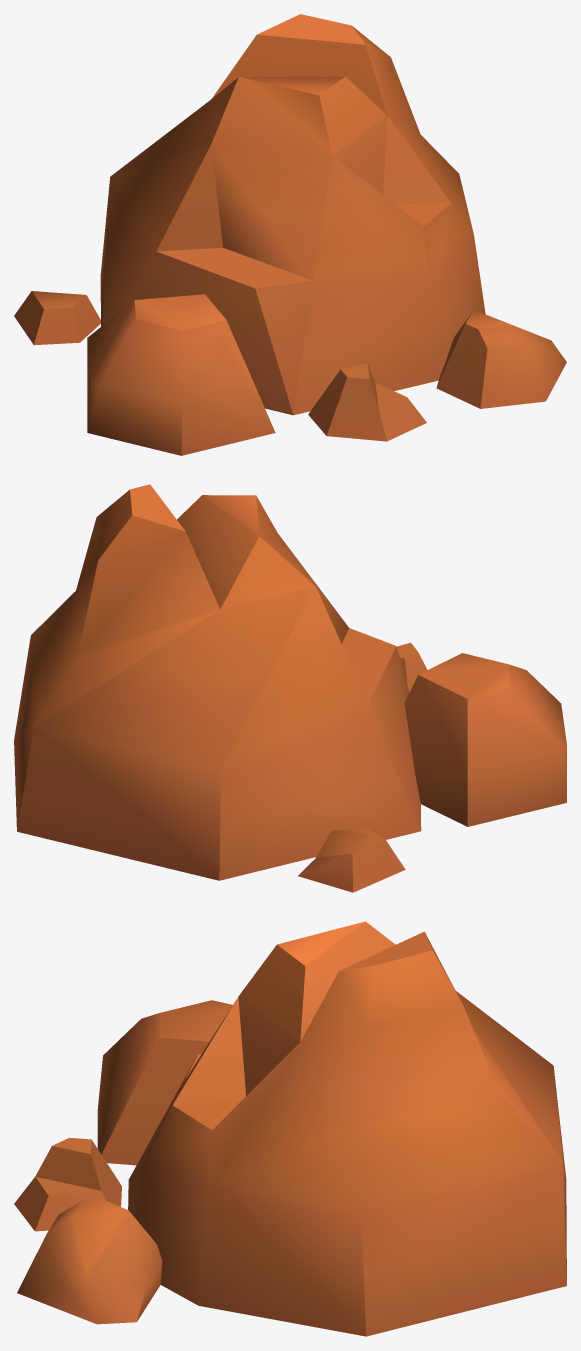
Rendered from kay-rochas-marte-b.gltf.
3 renders of one model, top to bottom at view 1: azimuth 30°, elevation 25°; view 2: azimuth 150°, elevation 25°; view 3: azimuth 270°, elevation 25°, orthographic. The views are drawn at different scales.
Parts seen in each view (by area): view 1: rocks_B; view 2: rocks_B; view 3: rocks_B.
Part boxes in pixels (<box>): rocks_B: <box>14,14,566,455</box>; rocks_B: <box>14,484,566,892</box>; rocks_B: <box>14,921,566,1336</box>.
Size of the model in its own units: 4.89 by 2.77 by 4.52.
1 material, 1 textured.
